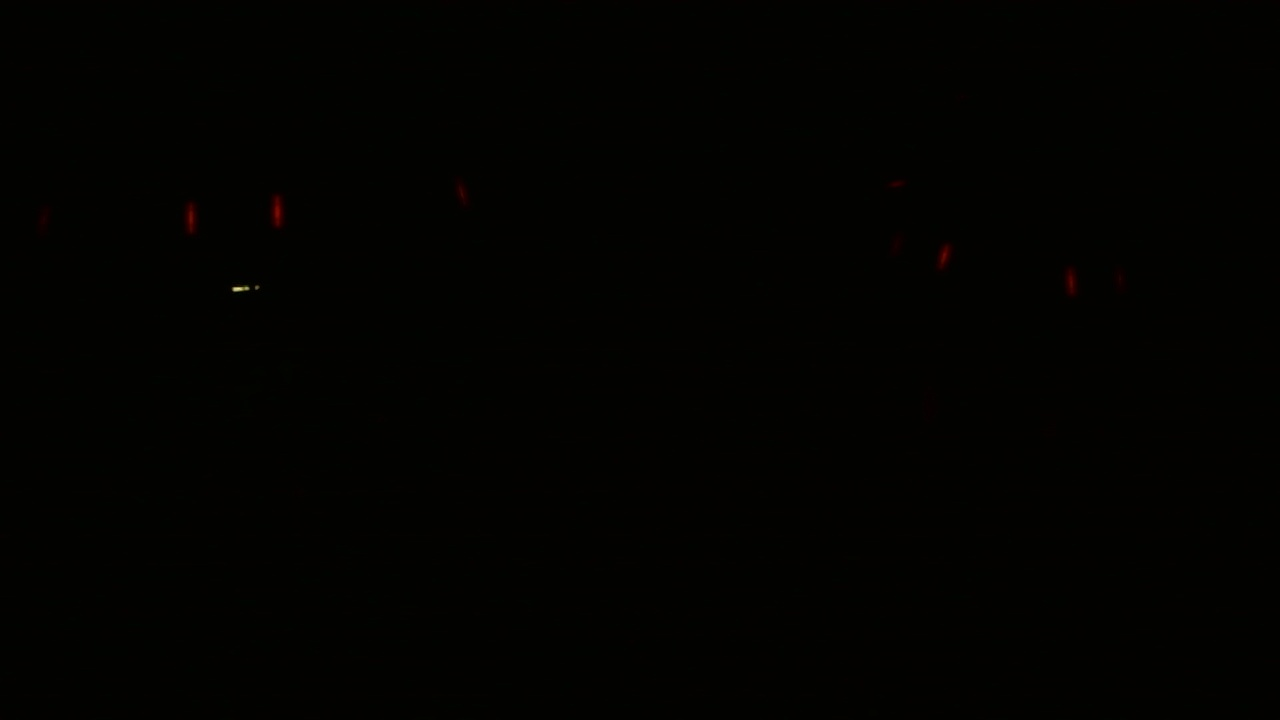pair1: (177, 197, 289, 235), (1061, 267, 1116, 295)
